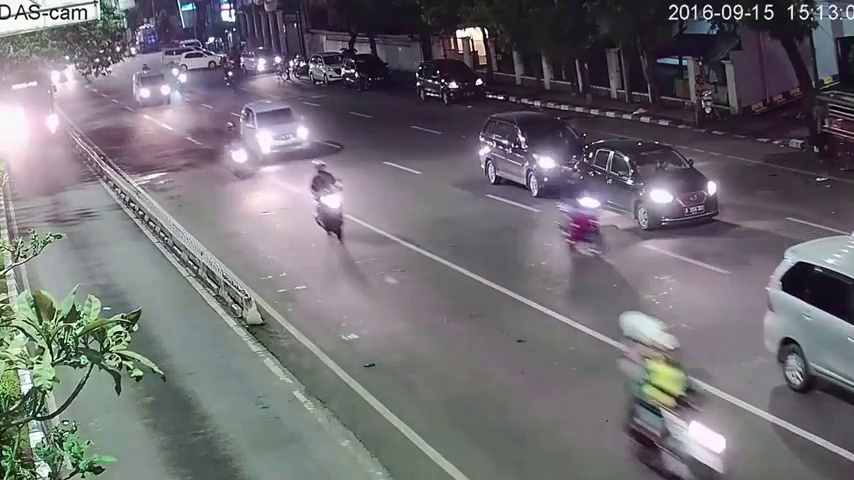car: (762, 227, 854, 402), (476, 105, 583, 197), (2, 68, 59, 152), (239, 99, 309, 161), (416, 60, 481, 109), (344, 51, 387, 92), (132, 72, 170, 111), (311, 50, 346, 90), (242, 49, 281, 77), (178, 50, 224, 72)
motorbike: (620, 312, 732, 480), (562, 175, 605, 264), (311, 162, 349, 244), (224, 123, 248, 177), (694, 76, 719, 126)
